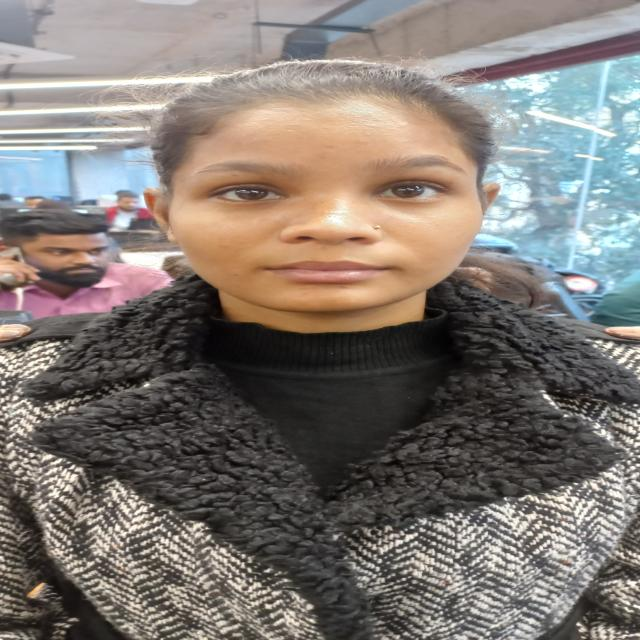Acne: (330, 285, 363, 292)
